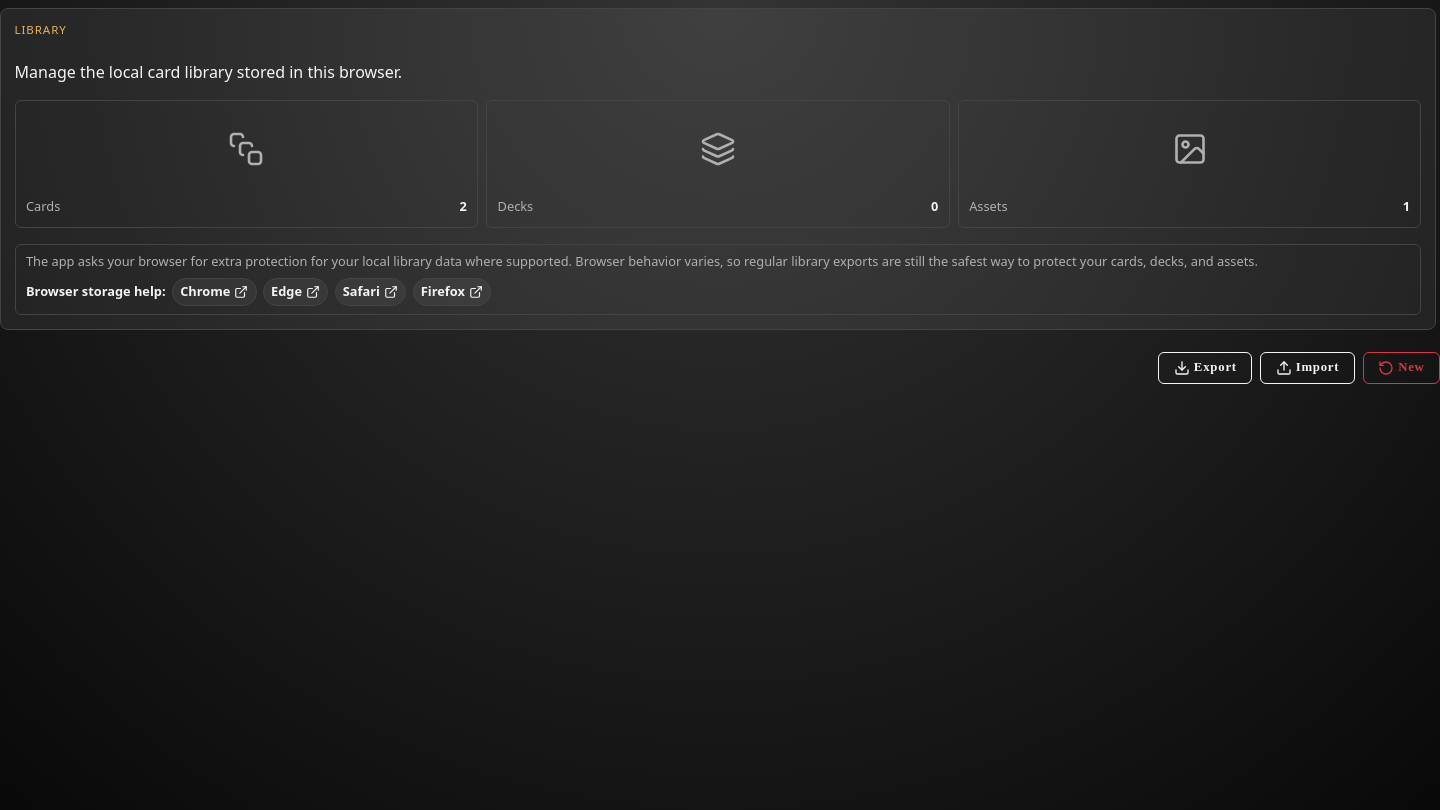
Test: LibrarySettingsPanel (UI) › requires acknowledgement before confirming the reset
Click the button "New": coordinates (1401, 368) [1363,352,1439,384]
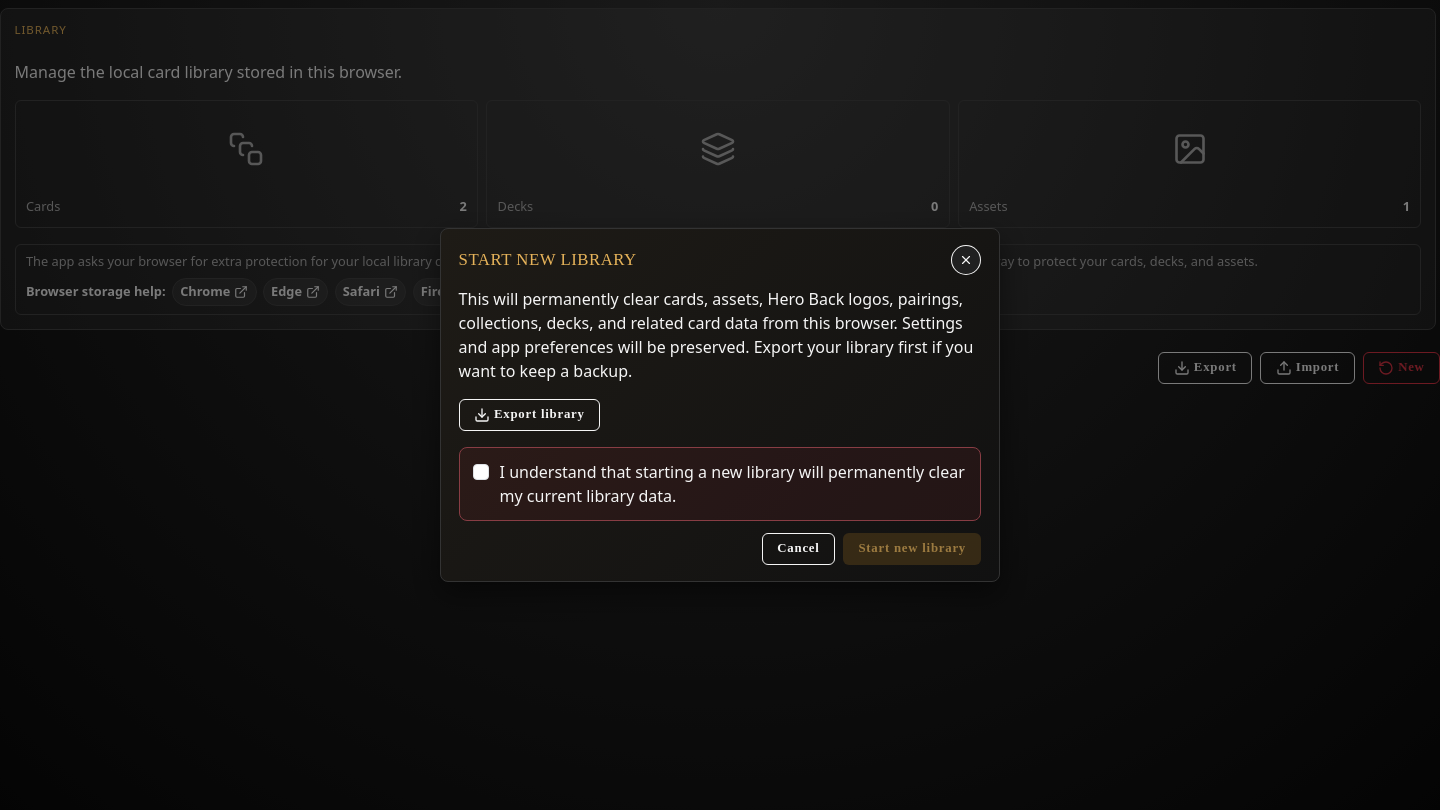
Now the button "Start new library" is disabled, box [843,533,981,565]
Click the checkbox named "I understand that starting a new library will permanently clear my current library data.": coordinates (481, 472) [473,464,489,480]
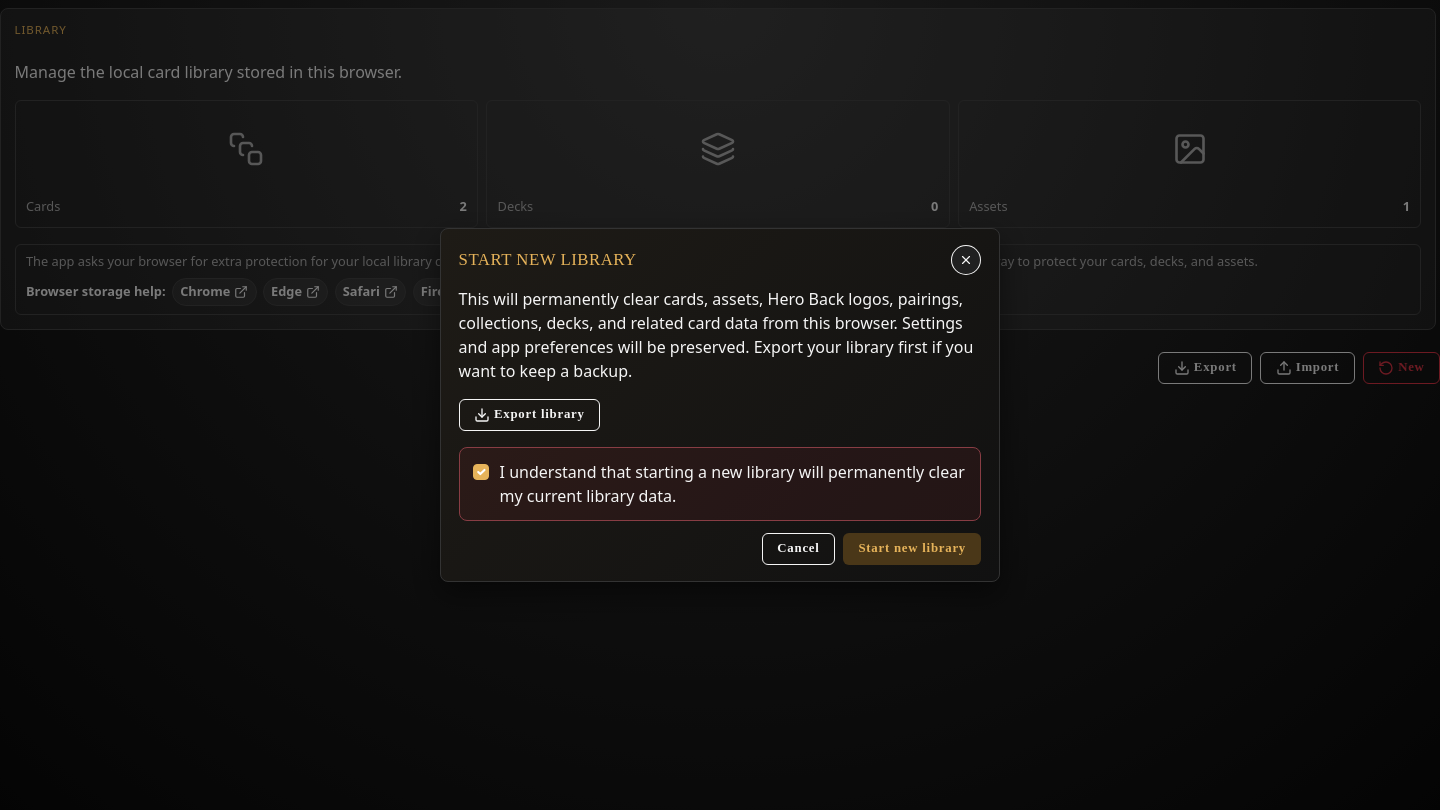
Now the button "Start new library" is enabled, box [843,533,981,565]
